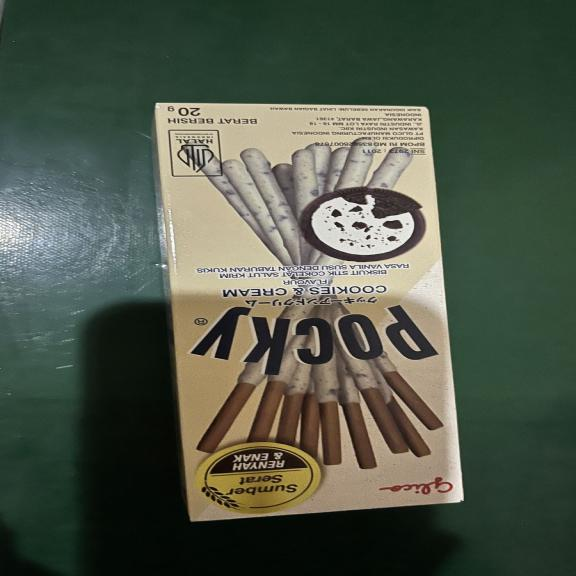Kertas: (152, 103, 472, 517)
